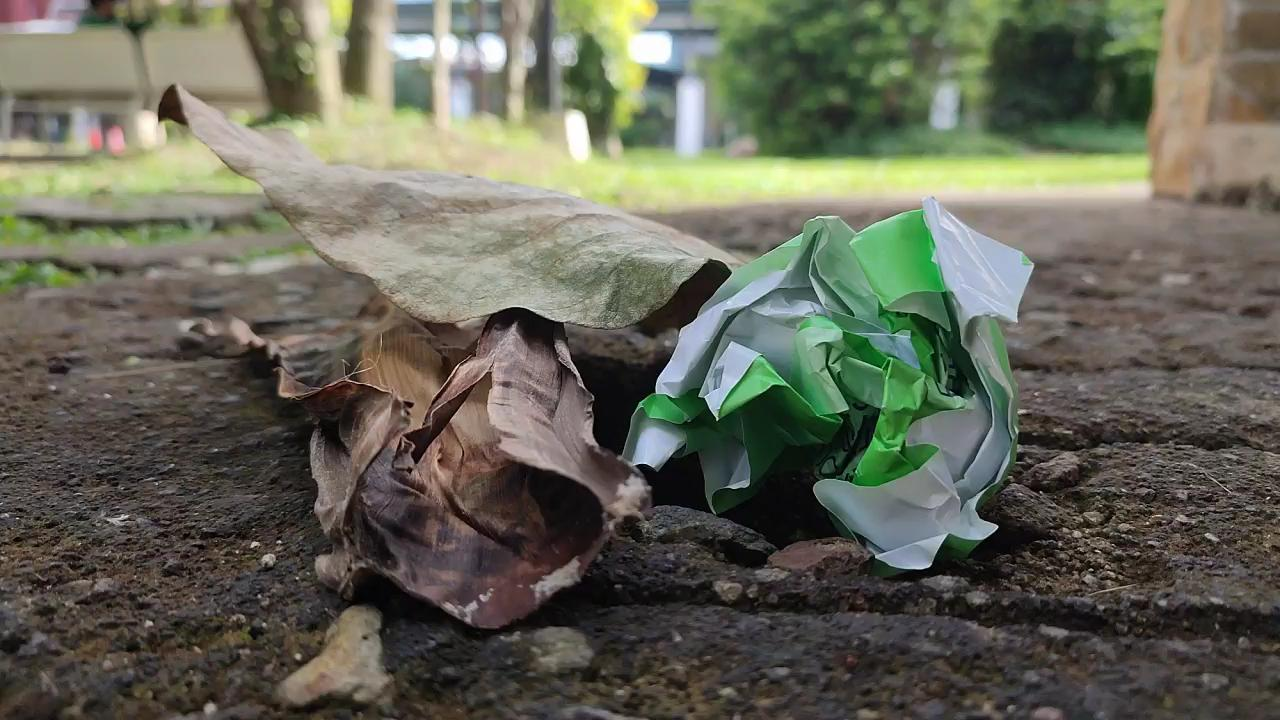Paper: (635, 164, 1035, 568)
